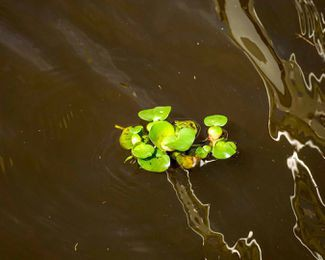water_hyacinth: (101, 87, 238, 183)
